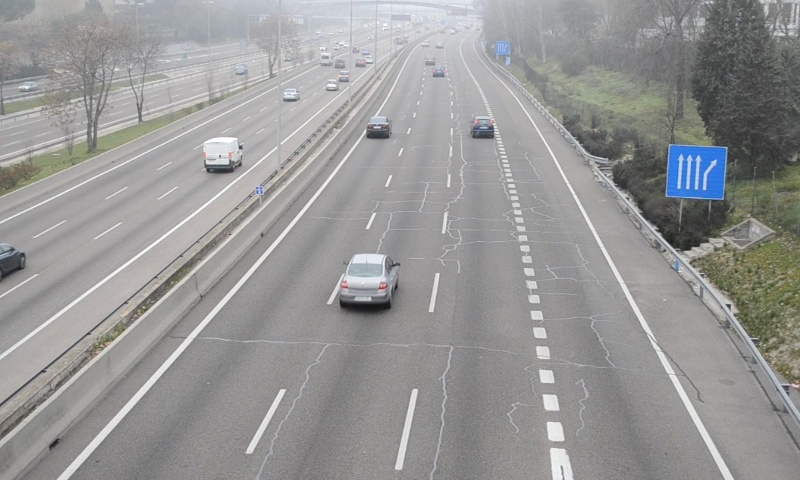car: (341, 254, 396, 308), (365, 116, 392, 138), (471, 116, 494, 137)
